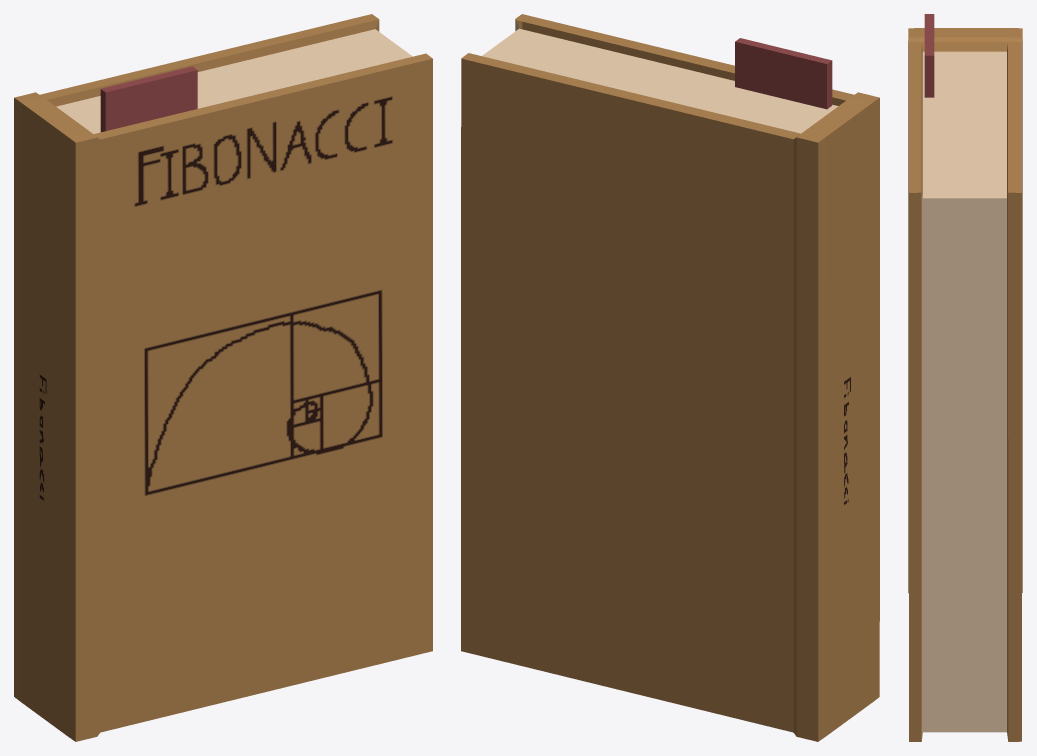
Rendered from fibonaccisequence.fbx.
3 views of the same model, side by side, from view 1: azimuth 30°, elevation 25°; view 2: azimuth 150°, elevation 25°; view 3: azimuth 270°, elevation 25° (orthographic). The views are drawn at different scales.
Parts seen in each view (by area): view 1: Cube.011; view 2: Cube.011; view 3: Cube.011.
Boxes of the visible parts, x1,y1,x2,y2 form: Cube.011: (14, 14, 432, 741); Cube.011: (461, 14, 879, 741); Cube.011: (908, 14, 1022, 741).
Size of the model in its own units: 22.92 by 38.83 by 6.85.
